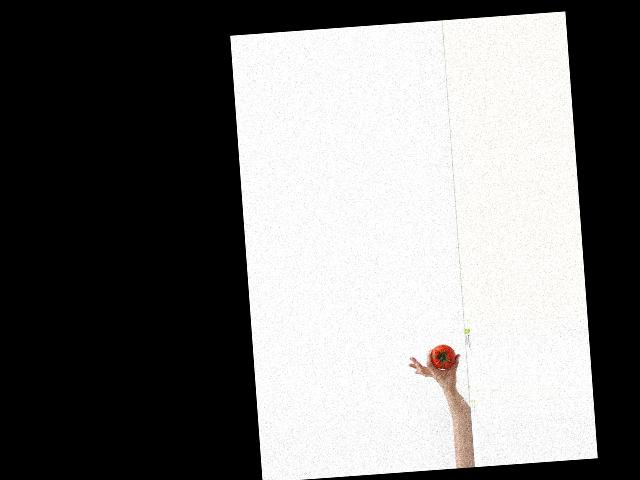tomato: (430, 343, 456, 370)
